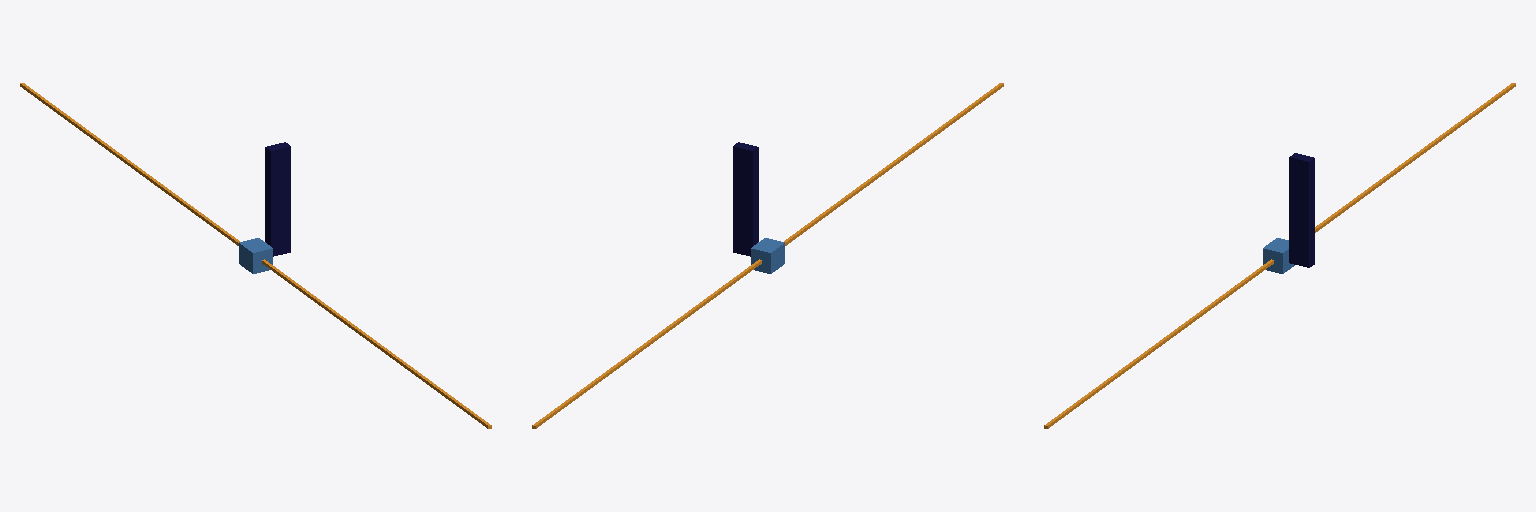
robot.urdf — cartpole:
<?xml version="1.0"?>
<robot name="cartpole">

    <link name="slider">
    <visual>
      <geometry>
        <box size="0.03 8 0.03"/>
      </geometry>
      <material name="slider_mat">
        <color rgba="0.9 0.6 0.2 1"/>
      </material>
    </visual>
    <collision>
      <geometry>
        <box size="0.03 8 0.03"/>
      </geometry>
    </collision>
  </link>

  <link name="cart">
    <visual>
      <geometry>
        <box size="0.2 0.25 0.2"/>
      </geometry>
      <material name="cart_mat">
        <color rgba="0.3 0.5 0.7 1"/>
      </material>
    </visual>
    <collision>
      <geometry>
          <box size="0.2 0.25 0.2"/>
      </geometry>
    </collision>
    <inertial>
      <mass value="1"/>
    </inertial>
  </link>

  <link name="pole">
    <visual>
      <geometry>
        <box size="0.2 0.1 1.0"/>	
      </geometry>
      <origin xyz="0.1 0.0 0.48"/>
      <material name="pole_mat">
        <color rgba="0.1 0.1 0.3 1"/>
      </material>
    </visual>
    <collision>
      <geometry>
        <box size="0.2 0.1 1.0"/>	
      </geometry>
      <origin xyz="0.1 0.0 0.48"/>
    </collision>
    <inertial>
      <mass value="5"/>
      <origin xyz="0.1 0.0 0.48"/>
    </inertial>
  </link>

  <joint name="slider_to_cart" type="prismatic">
    <axis xyz="0 1 0"/>
    <origin xyz="0 0 0"/>
    <parent link="slider"/>
    <child link="cart"/>
    <limit effort="180.0" lower="-8" upper="8" velocity="1.75"/>
  </joint>

  <joint name="cart_to_pole" type="continuous">
    <axis xyz="1 0 0"/>
    <origin xyz="0.12 0 0"/>
    <parent link="cart"/>
    <child link="pole"/>
    <limit effort="1.0" velocity="9.8"/>
  </joint>
  
</robot>

--- Render facts (derived) ---
3 views of the same robot in one strip: view 1: azimuth 30°, elevation 25°; view 2: azimuth 150°, elevation 25°; view 3: azimuth 330°, elevation 25° (orthographic).
Model cartpole with 3 links and 2 joints (1 continuous, 1 prismatic), rooted at slider, posed all joints at 0.
Links seen in each view (by area): view 1: pole, slider, cart; view 2: pole, slider, cart; view 3: pole, slider, cart.
Boxes of the visible links, <box> form: pole: <box>265,142,290,256</box>; slider: <box>20,83,491,428</box>; cart: <box>239,238,272,273</box>; pole: <box>733,142,758,256</box>; slider: <box>532,83,1003,428</box>; cart: <box>751,238,784,273</box>; pole: <box>1289,153,1314,267</box>; slider: <box>1044,83,1515,428</box>; cart: <box>1263,238,1294,273</box>.
Bounding box of the posed robot: 0.42 × 8 × 1.08 m (x, y, z).
Geometry: primitives only (box / cylinder / sphere), no mesh files.
